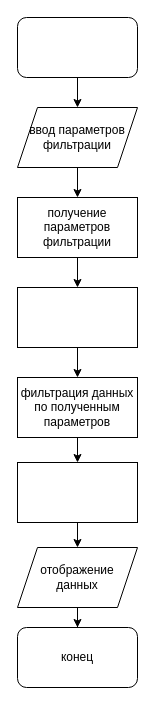
The diagram is 155 pixels wide and 705 high, and some of its shapes have lost their labels. The centre of each missing label's shape, as x and y in pixels:
"начало" belongs at (77,47).
"обработка параметров параметров фильтрации" belongs at (77,317).
"отправка отфильтрованных данных" belongs at (77,492).
